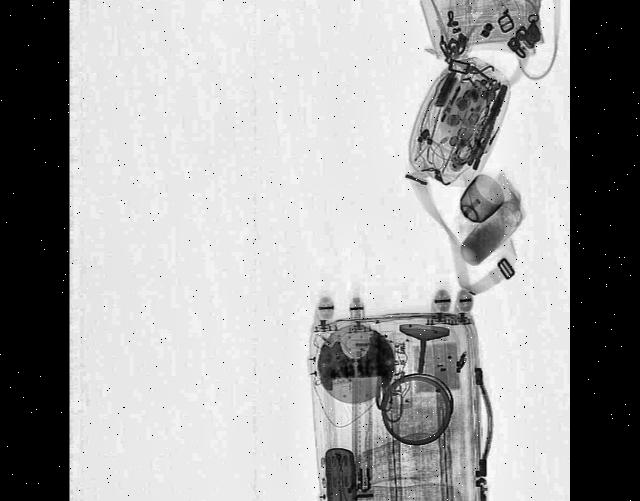Pliers: (466, 80, 510, 174)
